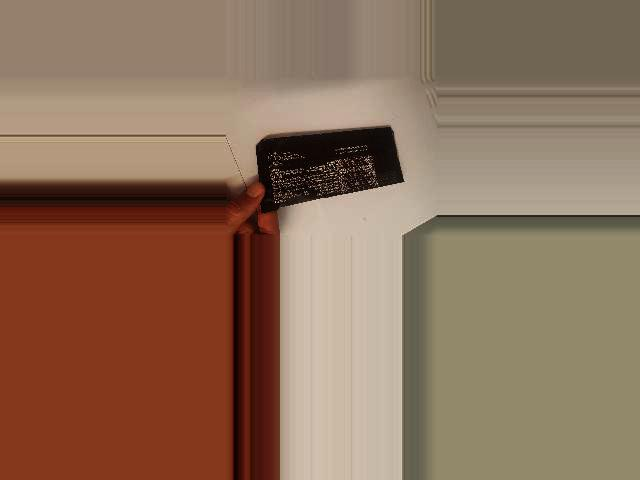chocolate: (255, 124, 407, 218)
